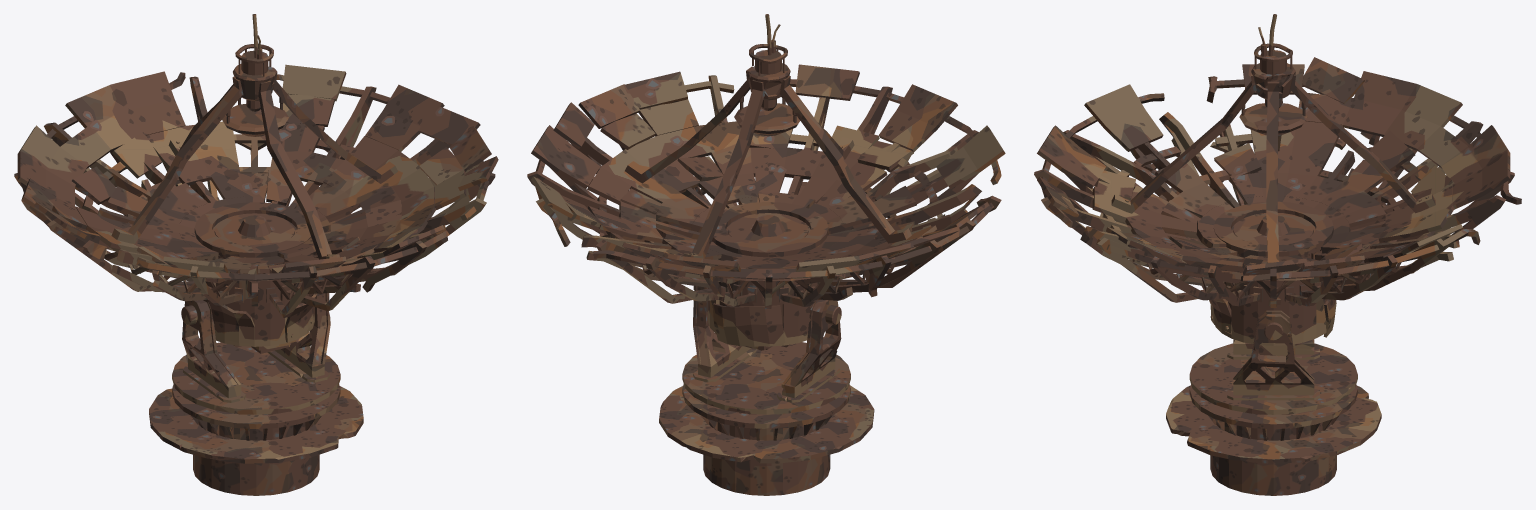
Rendered from SM_Bld_Scav_Dish_Background_01.fbx.
3 renders of one model, left to right at view 1: azimuth 30°, elevation 25°; view 2: azimuth 150°, elevation 25°; view 3: azimuth 270°, elevation 25°, orthographic.
Parts seen in each view (by area): view 1: SM_Bld_Scav_Dish_Background_01; view 2: SM_Bld_Scav_Dish_Background_01; view 3: SM_Bld_Scav_Dish_Background_01.
Part boxes in pixels (bbox=[...]): SM_Bld_Scav_Dish_Background_01: bbox=[14, 14, 498, 495]; SM_Bld_Scav_Dish_Background_01: bbox=[527, 14, 1005, 495]; SM_Bld_Scav_Dish_Background_01: bbox=[1034, 14, 1521, 495].
Size of the model in its own units: 8329 by 8514 by 8289.
